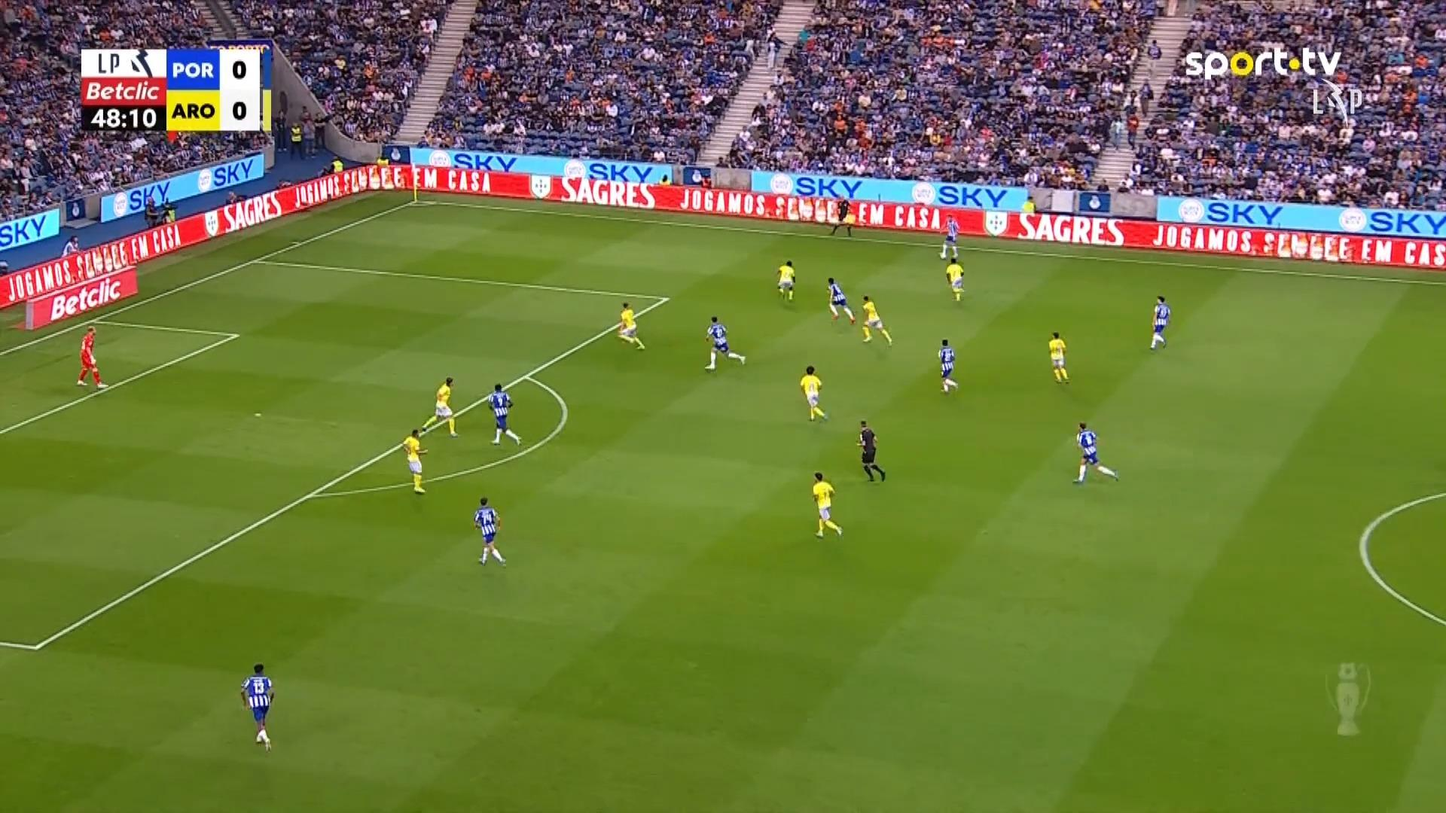goalkeeper: (76, 324, 108, 389)
player: (239, 662, 275, 751), (1071, 421, 1118, 484), (419, 376, 459, 437), (703, 315, 746, 370), (473, 496, 506, 565), (810, 471, 843, 538), (487, 382, 520, 445), (401, 428, 428, 494), (859, 294, 892, 346), (799, 364, 828, 422), (825, 276, 856, 324), (616, 301, 645, 350), (1149, 294, 1170, 349), (937, 338, 958, 393), (1048, 330, 1069, 383), (945, 255, 965, 301), (939, 215, 959, 260), (775, 259, 796, 301)
referee: (856, 419, 885, 482), (829, 198, 855, 236)
